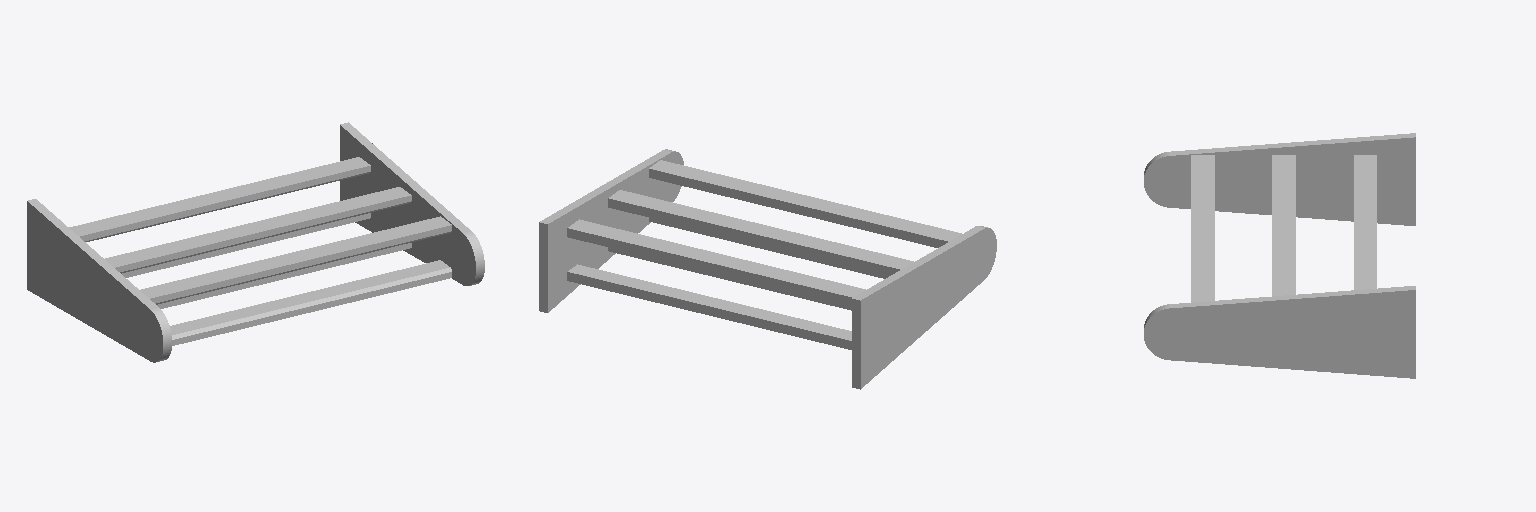
File: Rack.obj
The picture shows the model from 3 angles: view 1: azimuth 30°, elevation 25°; view 2: azimuth 150°, elevation 25°; view 3: azimuth 270°, elevation 25°; orthographic projection.
Parts seen in each view (by area): view 1: obj8, obj7, obj1, obj4, obj12, obj16, obj13, obj9; view 2: obj8, obj7, obj4, obj12, obj16, obj9, obj13, obj1; view 3: obj7, obj8, obj4, obj12, obj16.
Boxes of the visible parts, box(x1,y1,x2,y2) form: obj8: box(27, 199, 171, 362); obj7: box(340, 122, 484, 285); obj1: box(170, 260, 451, 345); obj4: box(140, 216, 451, 304); obj12: box(105, 187, 411, 273); obj16: box(69, 157, 370, 241); obj13: box(157, 243, 411, 308); obj9: box(122, 213, 370, 277); obj8: box(852, 226, 996, 389); obj7: box(539, 149, 683, 312); obj4: box(649, 160, 961, 247); obj12: box(608, 190, 913, 275); obj16: box(567, 219, 865, 306); obj9: box(567, 264, 851, 349); obj13: box(608, 247, 851, 310); obj1: box(649, 218, 888, 278); obj7: box(1144, 286, 1415, 378); obj8: box(1144, 133, 1415, 225); obj4: box(1191, 155, 1214, 302); obj12: box(1272, 155, 1295, 295); obj16: box(1354, 155, 1376, 289).
Size of the model in its own units: 54.75 by 14.5 by 40.25.